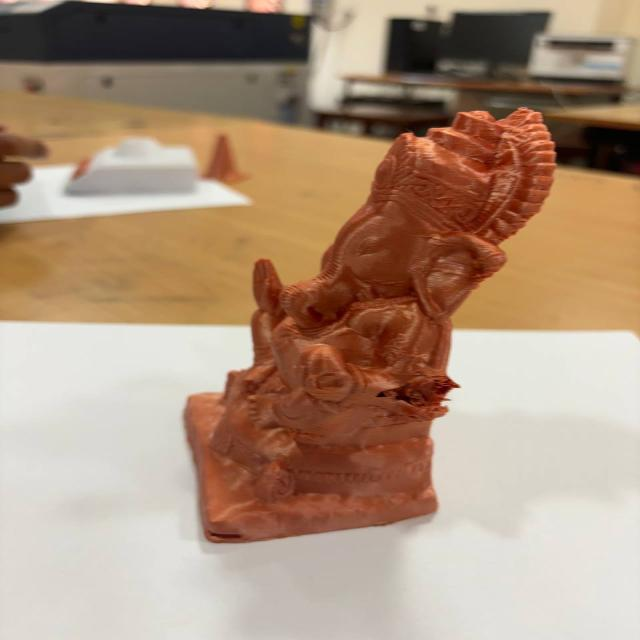cracks: (371, 361, 452, 422), (204, 524, 250, 547)
